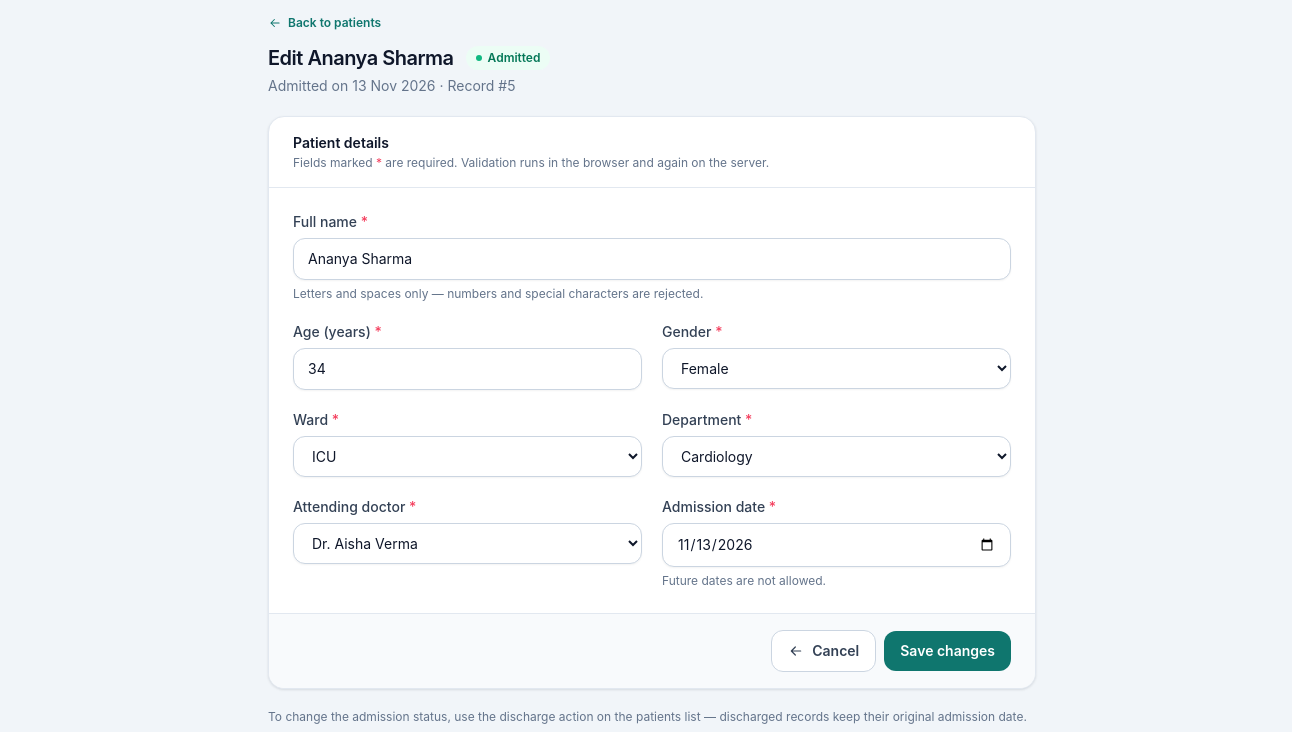
it: EditPatientPage › prefills the form from the API and saves the changes
Expected: the field labelled "Full name *" holds "Ananya Sharma", [293, 238, 1011, 280]
Expected: the number field labelled "Age (years) *" holds "34", [293, 348, 642, 390]
Select "General Ward" in the dropdown labelled "Ward *" at x=468, y=456, box [293, 436, 642, 477]
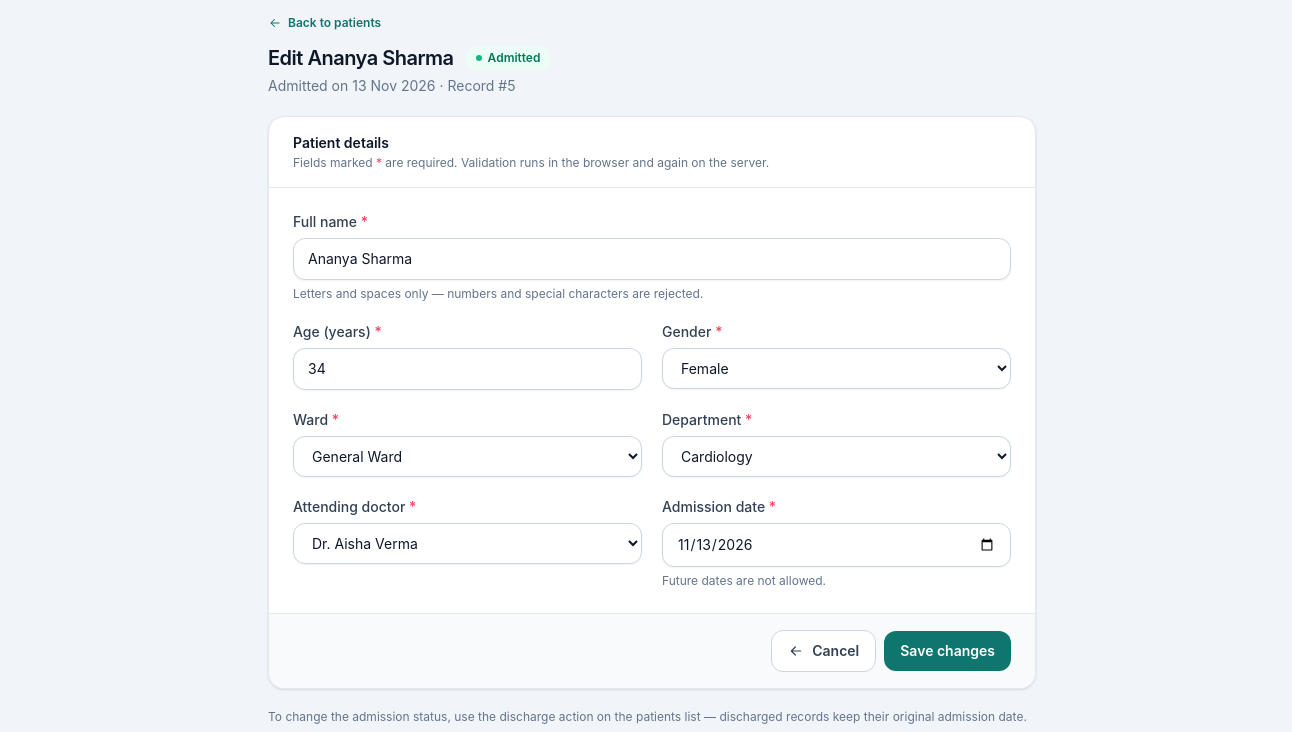
Click the button "Save changes" at x=948, y=651, box [884, 631, 1011, 671]
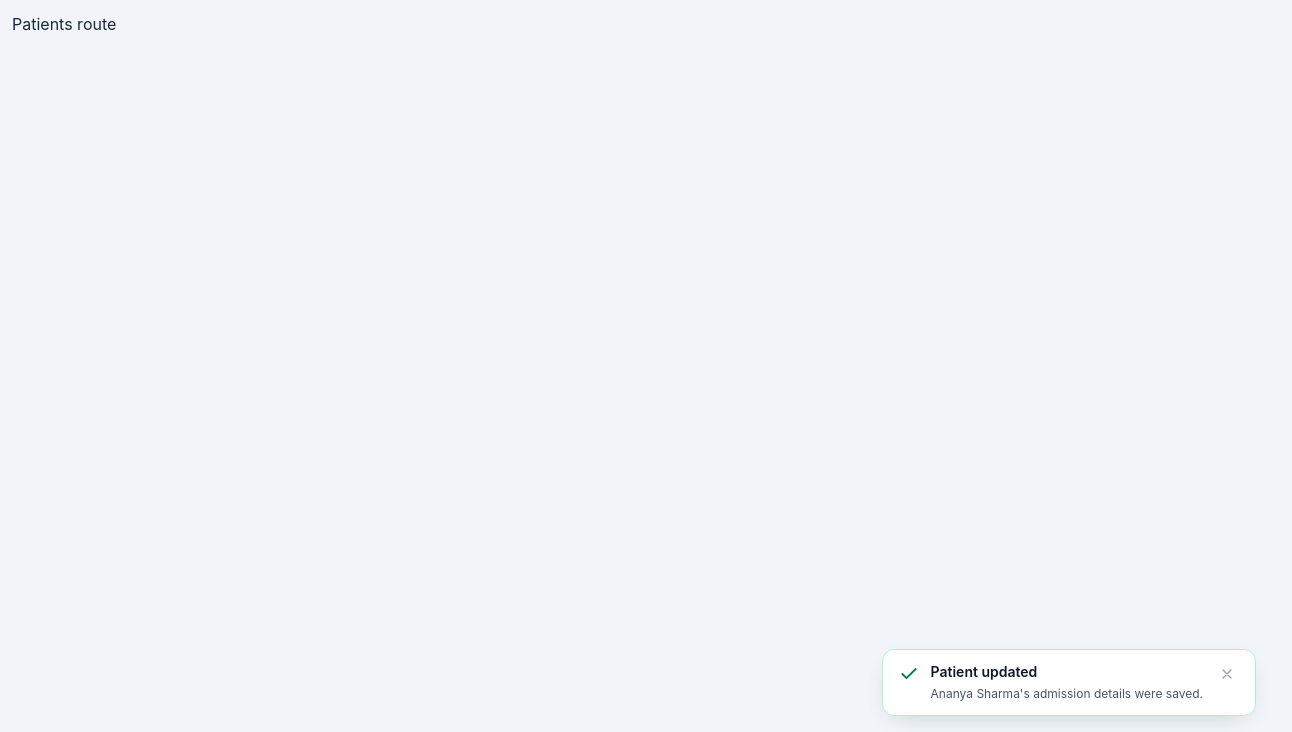
Now the text "Patients route" is shown, box [12, 14, 116, 34]
Now the text "Patient updated" is shown, box [931, 662, 1037, 680]
